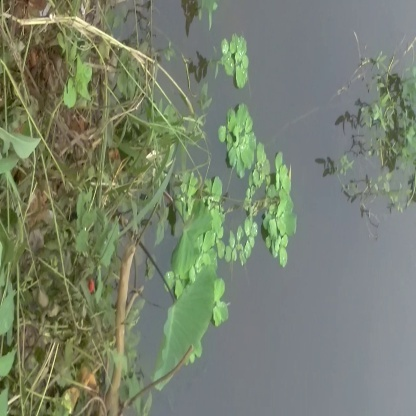leaf: (215, 28, 259, 88)
